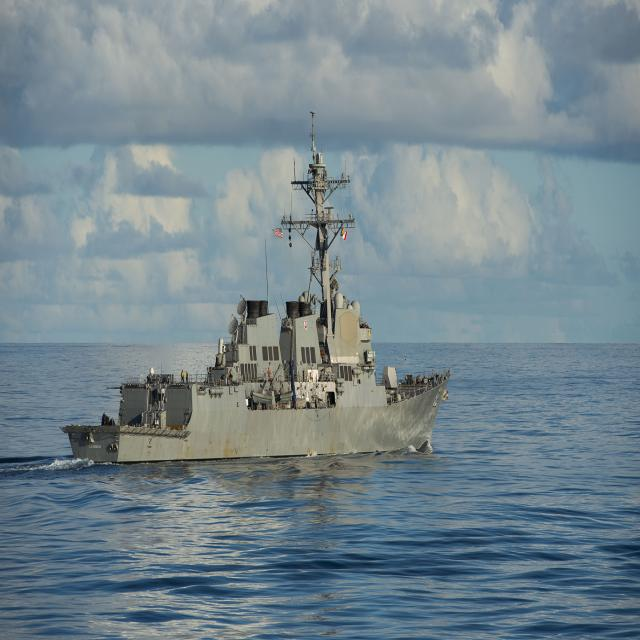navalvessels: (63, 117, 451, 474)
